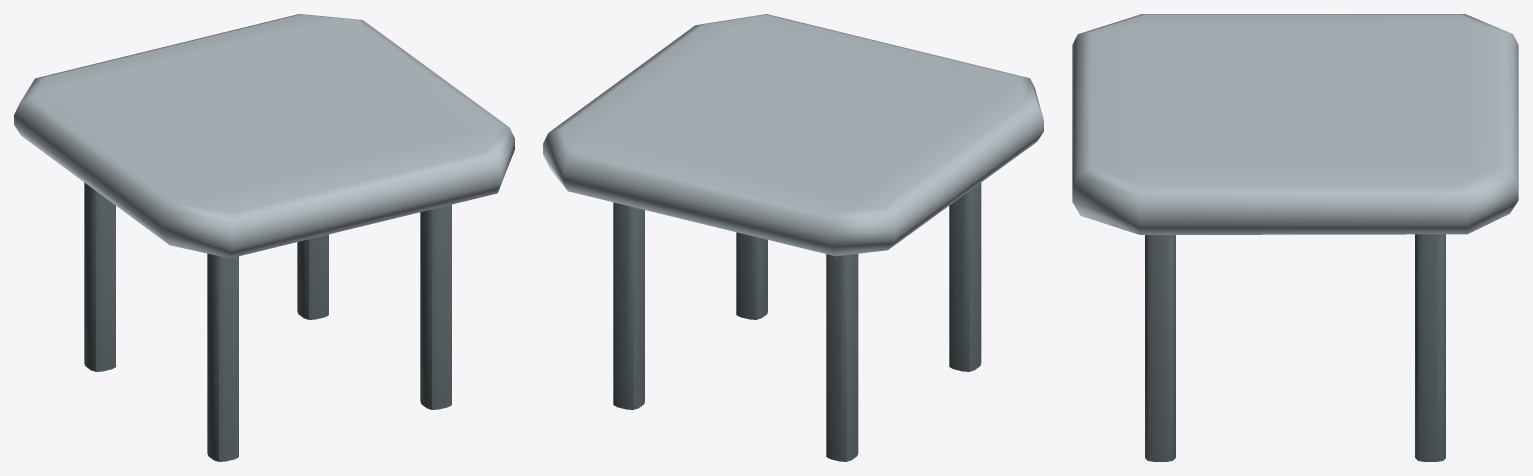
File: masa.fbx
3 renders of one model, left to right at view 1: azimuth 30°, elevation 25°; view 2: azimuth 150°, elevation 25°; view 3: azimuth 270°, elevation 25°, orthographic. The views are drawn at different scales.
Parts seen in each view (by area): view 1: SM_Prop_CoffeeTable_02; view 2: SM_Prop_CoffeeTable_02; view 3: SM_Prop_CoffeeTable_02.
Part boxes in pixels (x1=…): SM_Prop_CoffeeTable_02: x1=14, y1=14, x2=514, y2=461; SM_Prop_CoffeeTable_02: x1=543, y1=14, x2=1043, y2=461; SM_Prop_CoffeeTable_02: x1=1072, y1=14, x2=1518, y2=461.
Size of the model in its own units: 291 by 214 by 291.
1 material, 1 textured.
